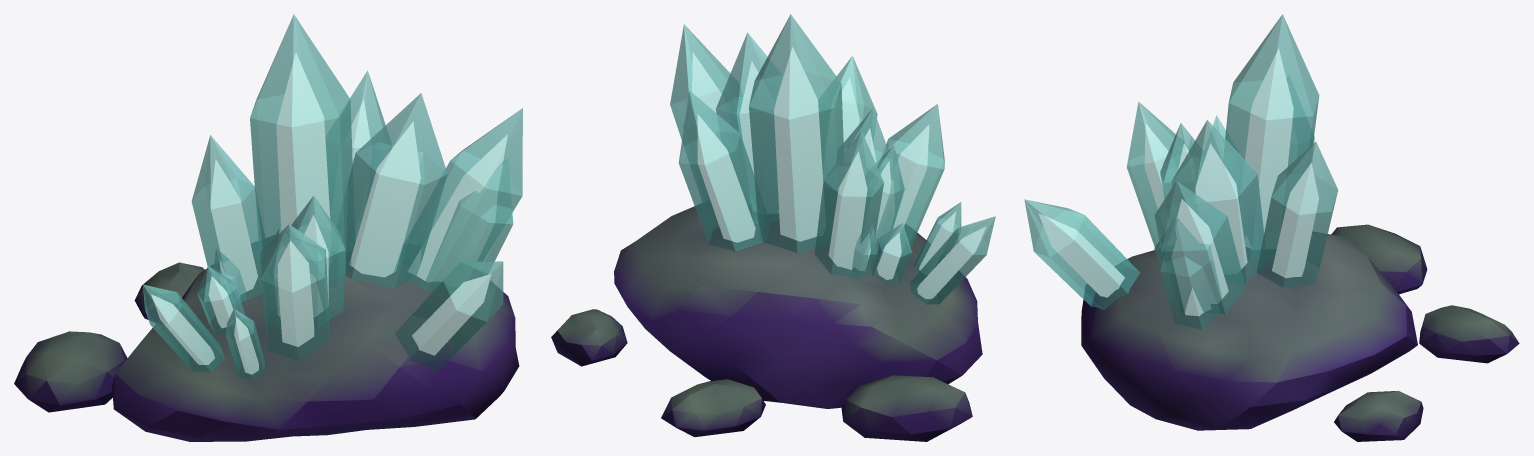
File: hollow_crystal_cluster_c.glb
3 views of the same model, side by side, from view 1: azimuth 30°, elevation 25°; view 2: azimuth 150°, elevation 25°; view 3: azimuth 270°, elevation 25° (orthographic). The views are drawn at different scales.
Visible parts, largest first — view 1: hollow_crystal_cluster_c; view 2: hollow_crystal_cluster_c; view 3: hollow_crystal_cluster_c.
Part boxes in pixels (x1=…): hollow_crystal_cluster_c: x1=14, y1=14, x2=522, y2=441; hollow_crystal_cluster_c: x1=551, y1=14, x2=995, y2=441; hollow_crystal_cluster_c: x1=1024, y1=14, x2=1519, y2=441.
Bounding box in the file's own units: 6.19 × 5.1 × 6.61.
